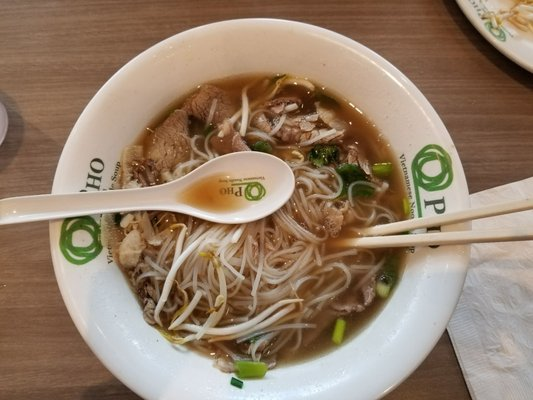burger: (1, 152, 297, 231)
salad: (0, 150, 296, 228)
sushi: (13, 12, 483, 395)
